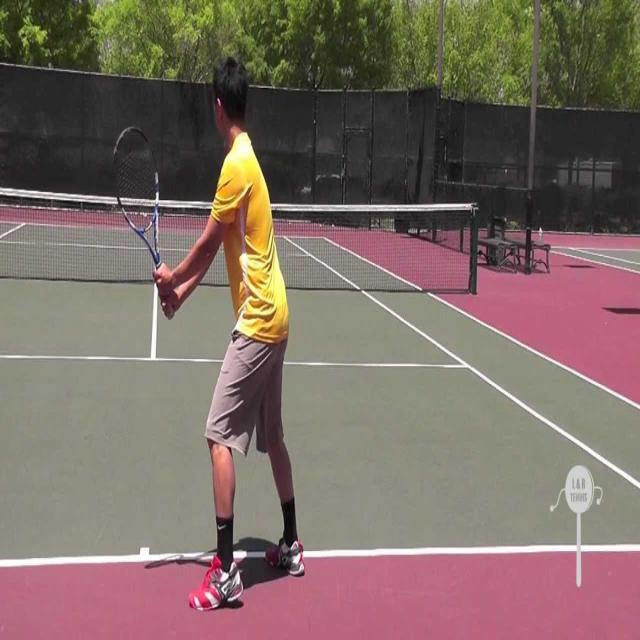court: (0, 262, 640, 638)
net: (0, 173, 477, 301)
player: (102, 48, 316, 612)
